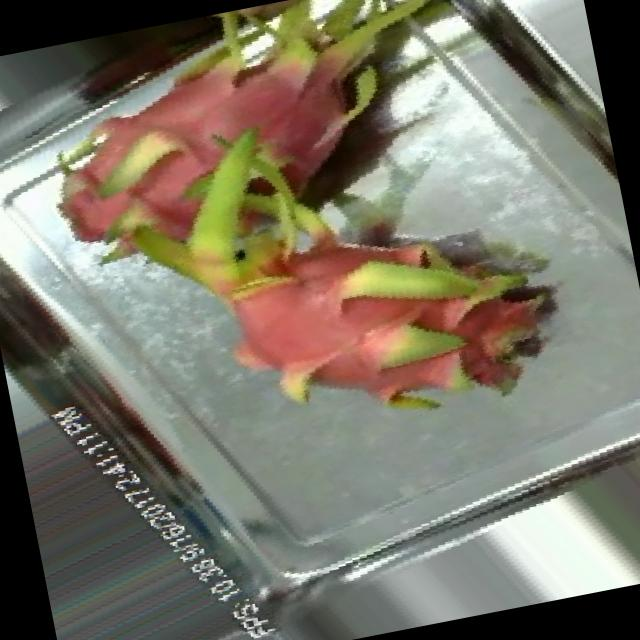Fruit: (426, 264, 590, 417), (564, 424, 640, 593)
